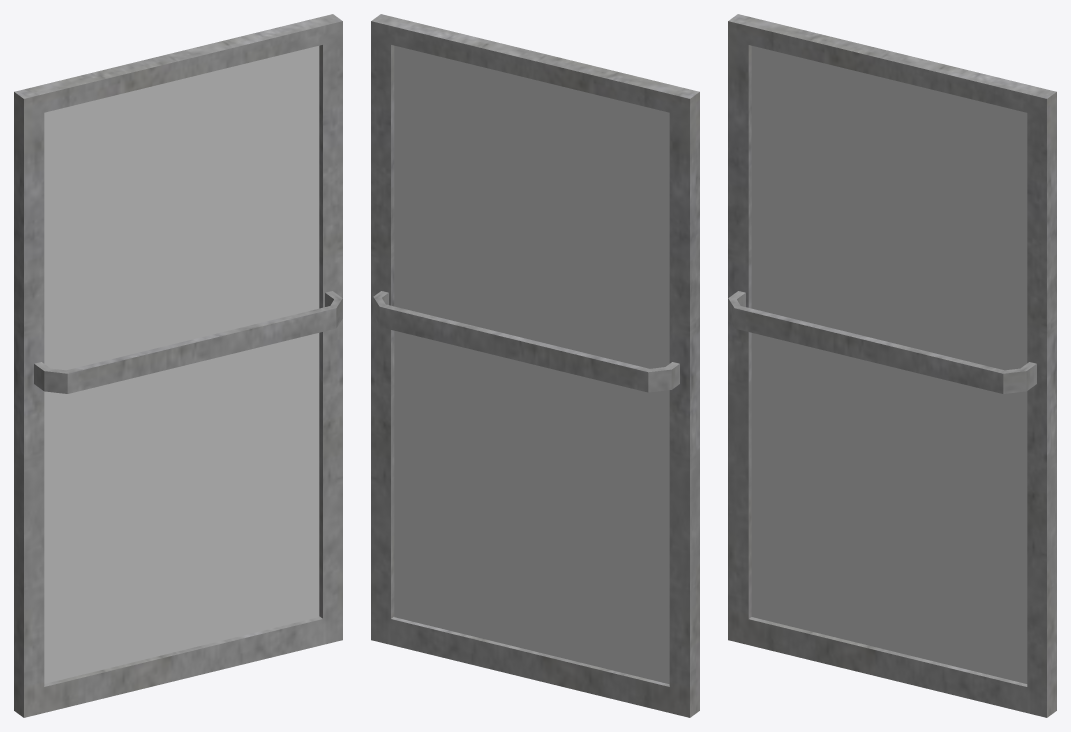
Rendered from DoorType2.glb.
3 views of the same model, side by side, from view 1: azimuth 30°, elevation 25°; view 2: azimuth 150°, elevation 25°; view 3: azimuth 330°, elevation 25° (orthographic).
Visible parts, largest first — view 1: Door_02; view 2: Door_02; view 3: Door_02.
Part boxes in pixels (x1,y1,x2,y2): Door_02: (14, 14, 342, 717); Door_02: (371, 14, 699, 717); Door_02: (728, 14, 1056, 717).
Size of the model in its own units: 1.45 by 2.69 by 0.3554.
Materials: 2 (1 with a texture image).
